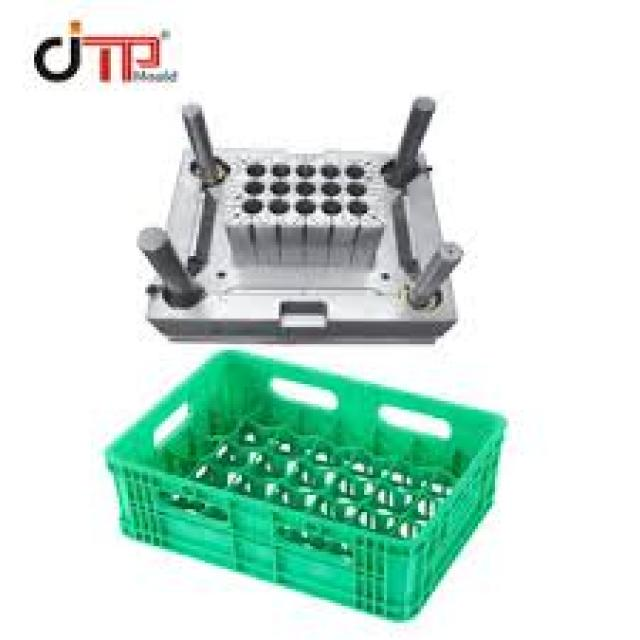basket: (86, 332, 515, 635)
